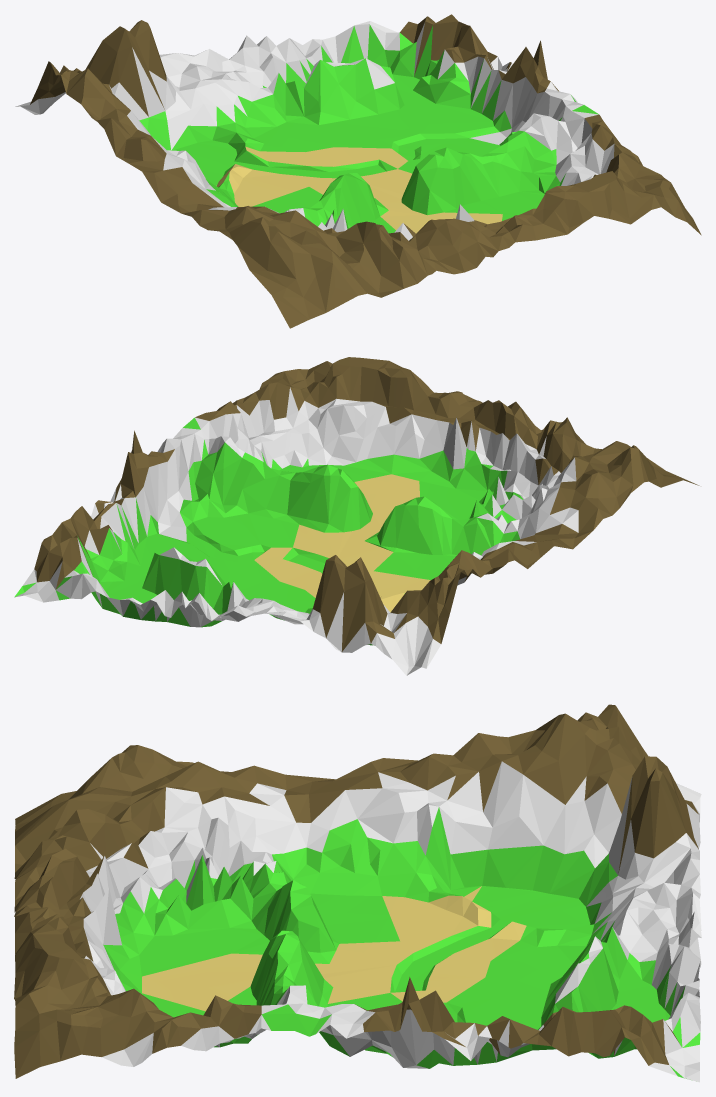
File: hehehehHarbiRenkli.fbx
3 views of the same model, one above another, from view 1: azimuth 30°, elevation 25°; view 2: azimuth 150°, elevation 25°; view 3: azimuth 270°, elevation 25° (orthographic). The views are drawn at different scales.
Visible parts, largest first — view 1: TerrainLast; view 2: TerrainLast; view 3: TerrainLast.
Part boxes in pixels (x1=…): TerrainLast: x1=15, y1=14, x2=701, y2=328; TerrainLast: x1=14, y1=357, x2=699, y2=675; TerrainLast: x1=14, y1=704, x2=701, y2=1082.
Bounding box in the file's own units: 130922 × 33534 × 150660.
